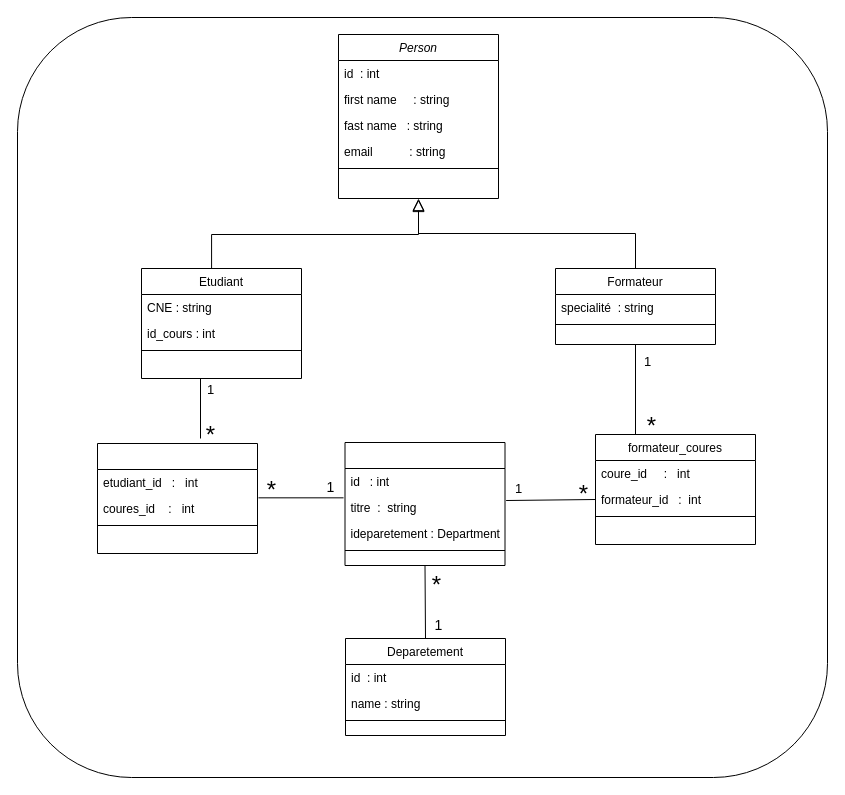
Some shapes in this 845 by 795 pixel diagram are drawn without their labels. The box of each missing label's shape, as (x1, y1, x2, y2) in pixels:
cours: (344, 442, 505, 566)
etudiant_coures: (96, 442, 258, 554)
